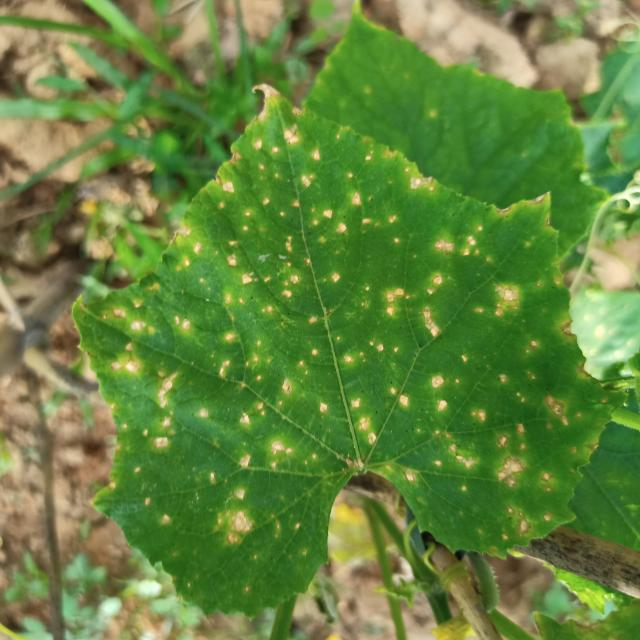disease_cucumber: (162, 97, 536, 339), (82, 279, 347, 552), (343, 278, 590, 544)
